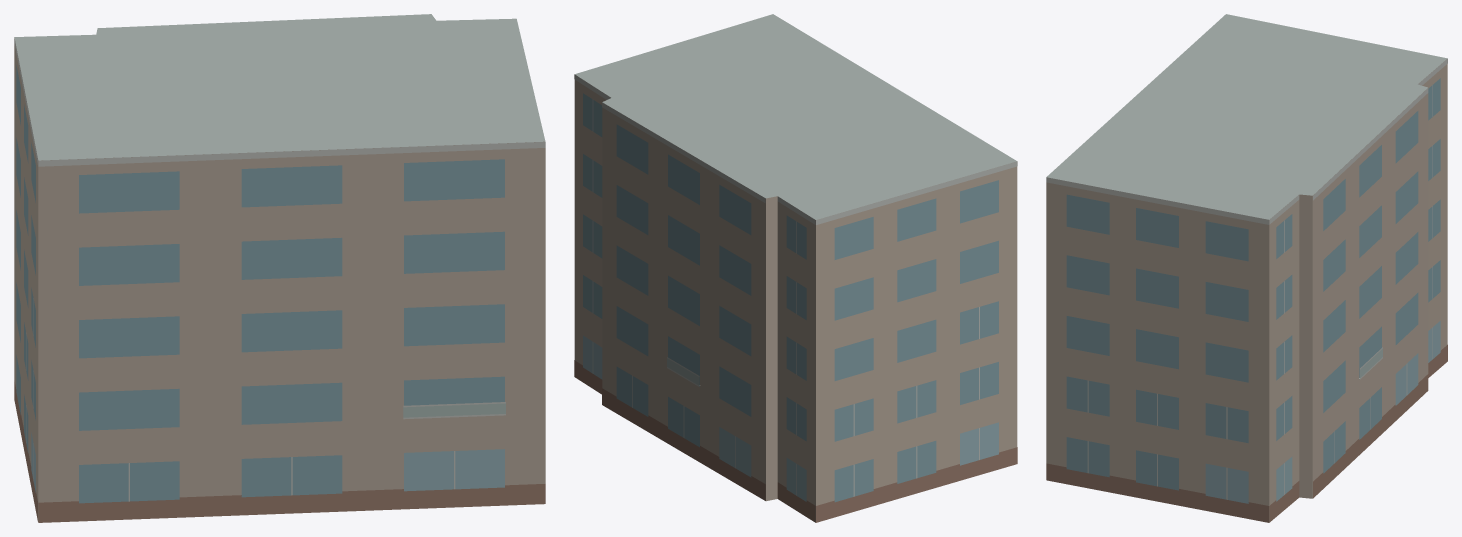
Rendered from survey-upis-32638851.glb.
3 renders of one model, left to right at view 1: azimuth 30°, elevation 25°; view 2: azimuth 150°, elevation 25°; view 3: azimuth 270°, elevation 25°, orthographic. The views are drawn at different scales.
Visible parts, largest first — view 1: survey-upis-32638851.tmp; view 2: survey-upis-32638851.tmp; view 3: survey-upis-32638851.tmp.
Boxes of the visible parts, bbox=[...] form: survey-upis-32638851.tmp: bbox=[14, 14, 545, 522]; survey-upis-32638851.tmp: bbox=[574, 14, 1017, 522]; survey-upis-32638851.tmp: bbox=[1046, 14, 1447, 522].
Size of the model in its own units: 20.91 by 14.35 by 17.24.
